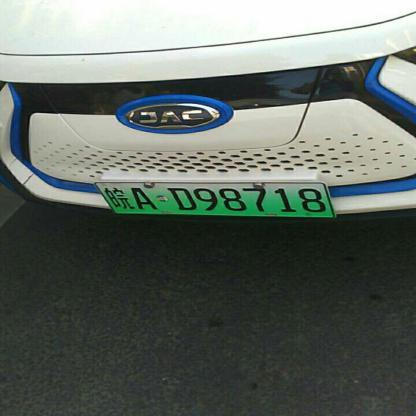lp: (94, 182, 334, 215)
